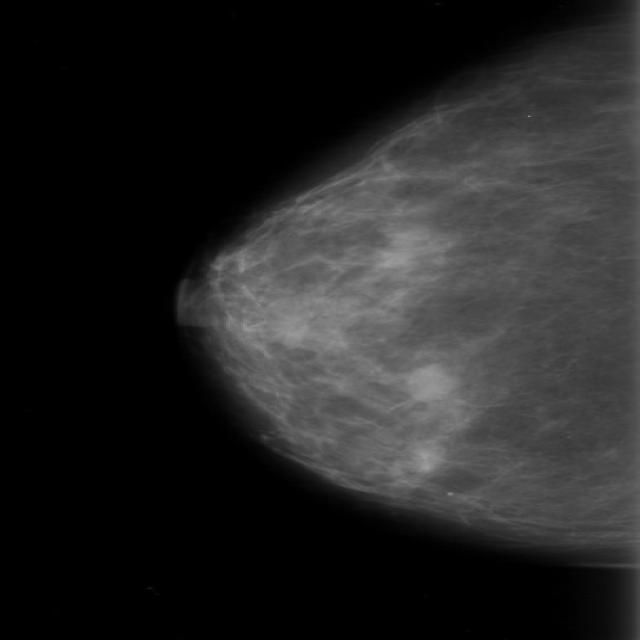tumour: (402, 361, 456, 401)
